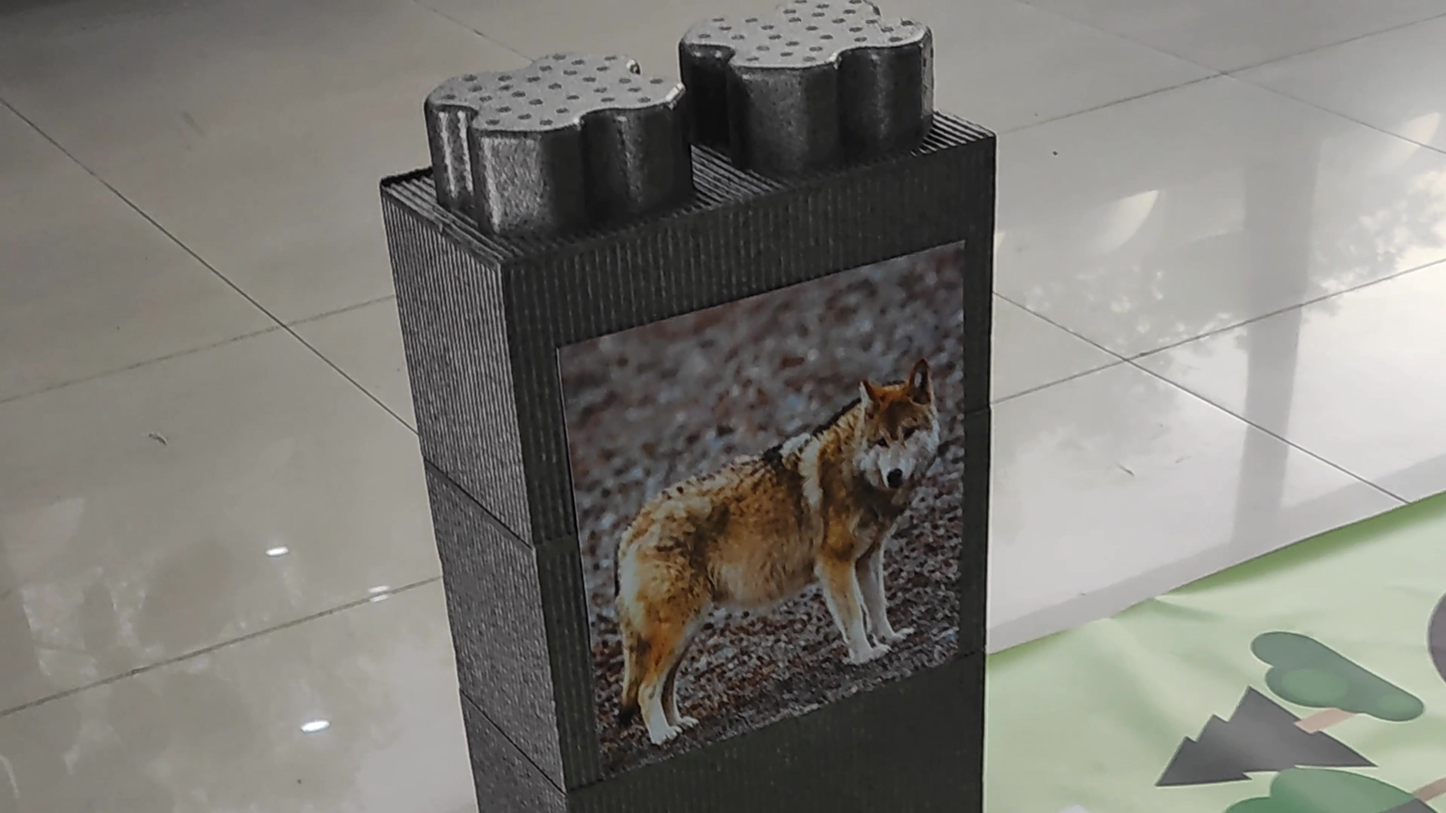wolf: (613, 355, 946, 746)
